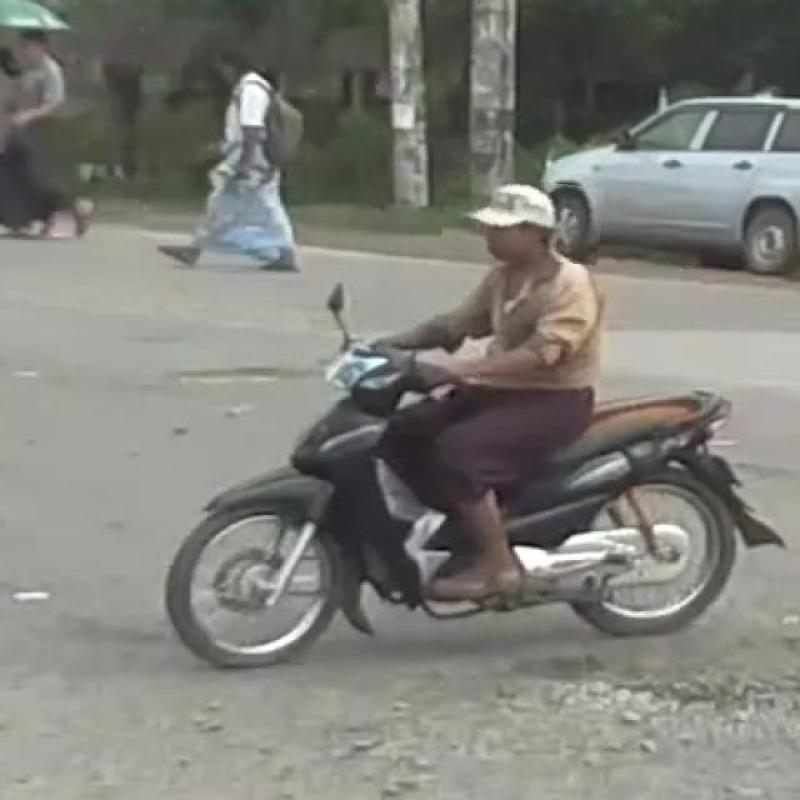nohelmet: (443, 176, 604, 262)
